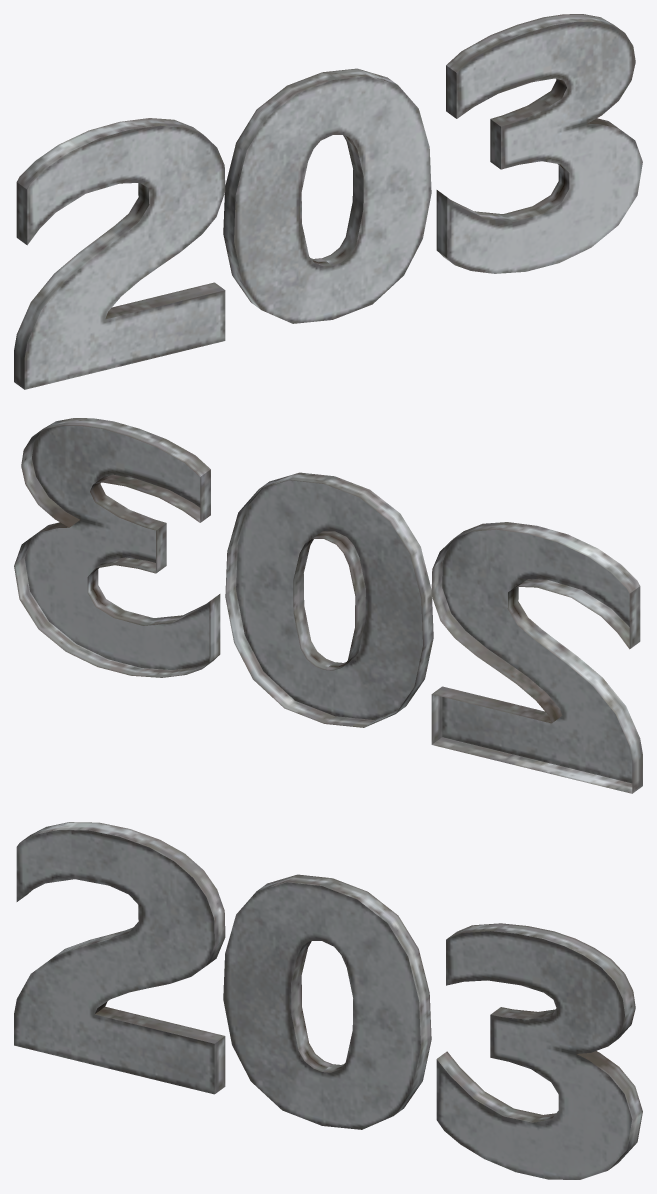
File: categorySign203.FBX
3 renders of one model, top to bottom at view 1: azimuth 30°, elevation 25°; view 2: azimuth 150°, elevation 25°; view 3: azimuth 330°, elevation 25°, orthographic.
Visible parts, largest first — view 1: SM_CategorySign203; view 2: SM_CategorySign203; view 3: SM_CategorySign203.
Part boxes in pixels (x1,y1,x2,y2): SM_CategorySign203: (14,14,642,389); SM_CategorySign203: (14,418,642,793); SM_CategorySign203: (14,822,642,1179).
Bounding box in the file's own units: 6.7 × 2.49 × 0.2.
Materials: 1 (1 with a texture image).
